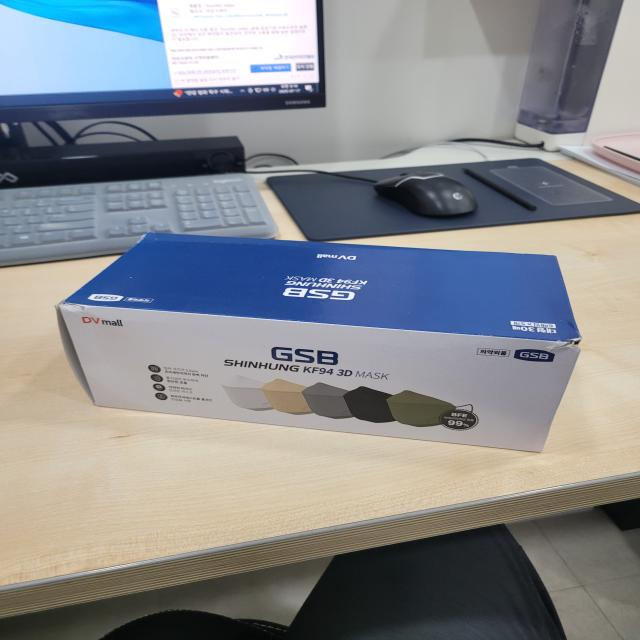mask: (51, 224, 598, 463)
